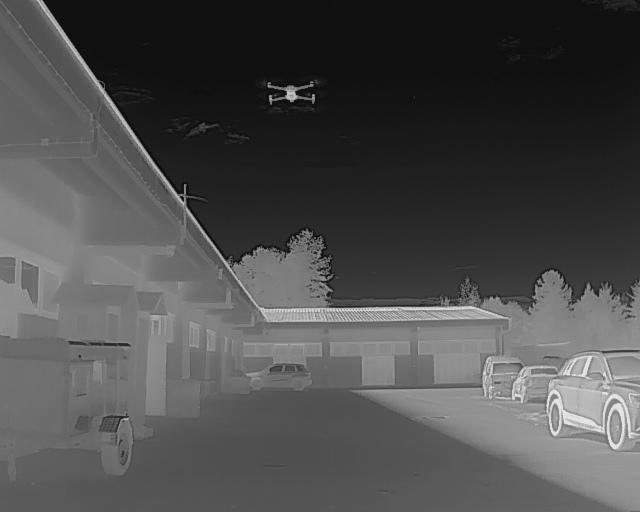drone: (254, 71, 325, 114)
